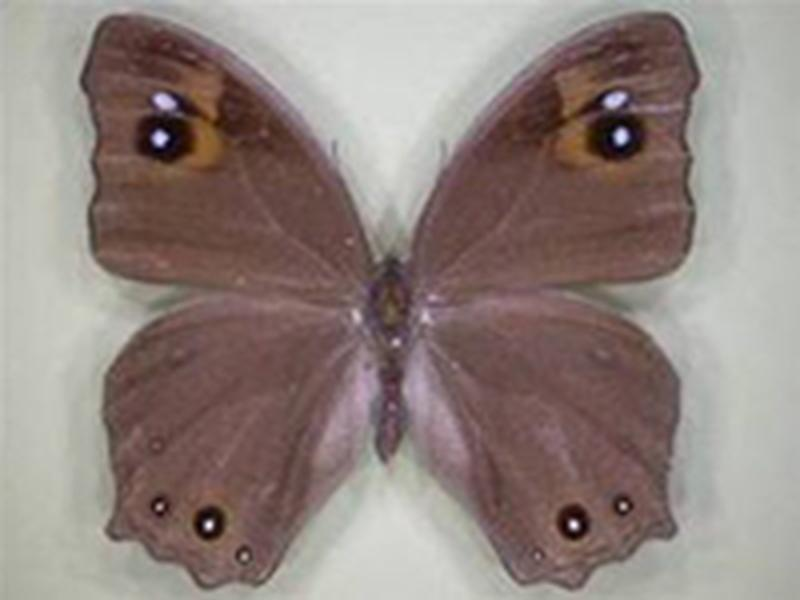Rice_horned_caterpillar: (70, 11, 716, 600)
